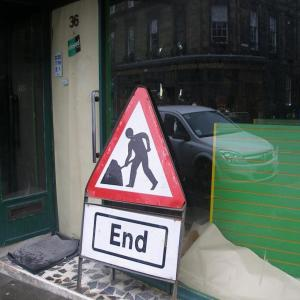Vehicle-registration-plate: (257, 164, 275, 176)
